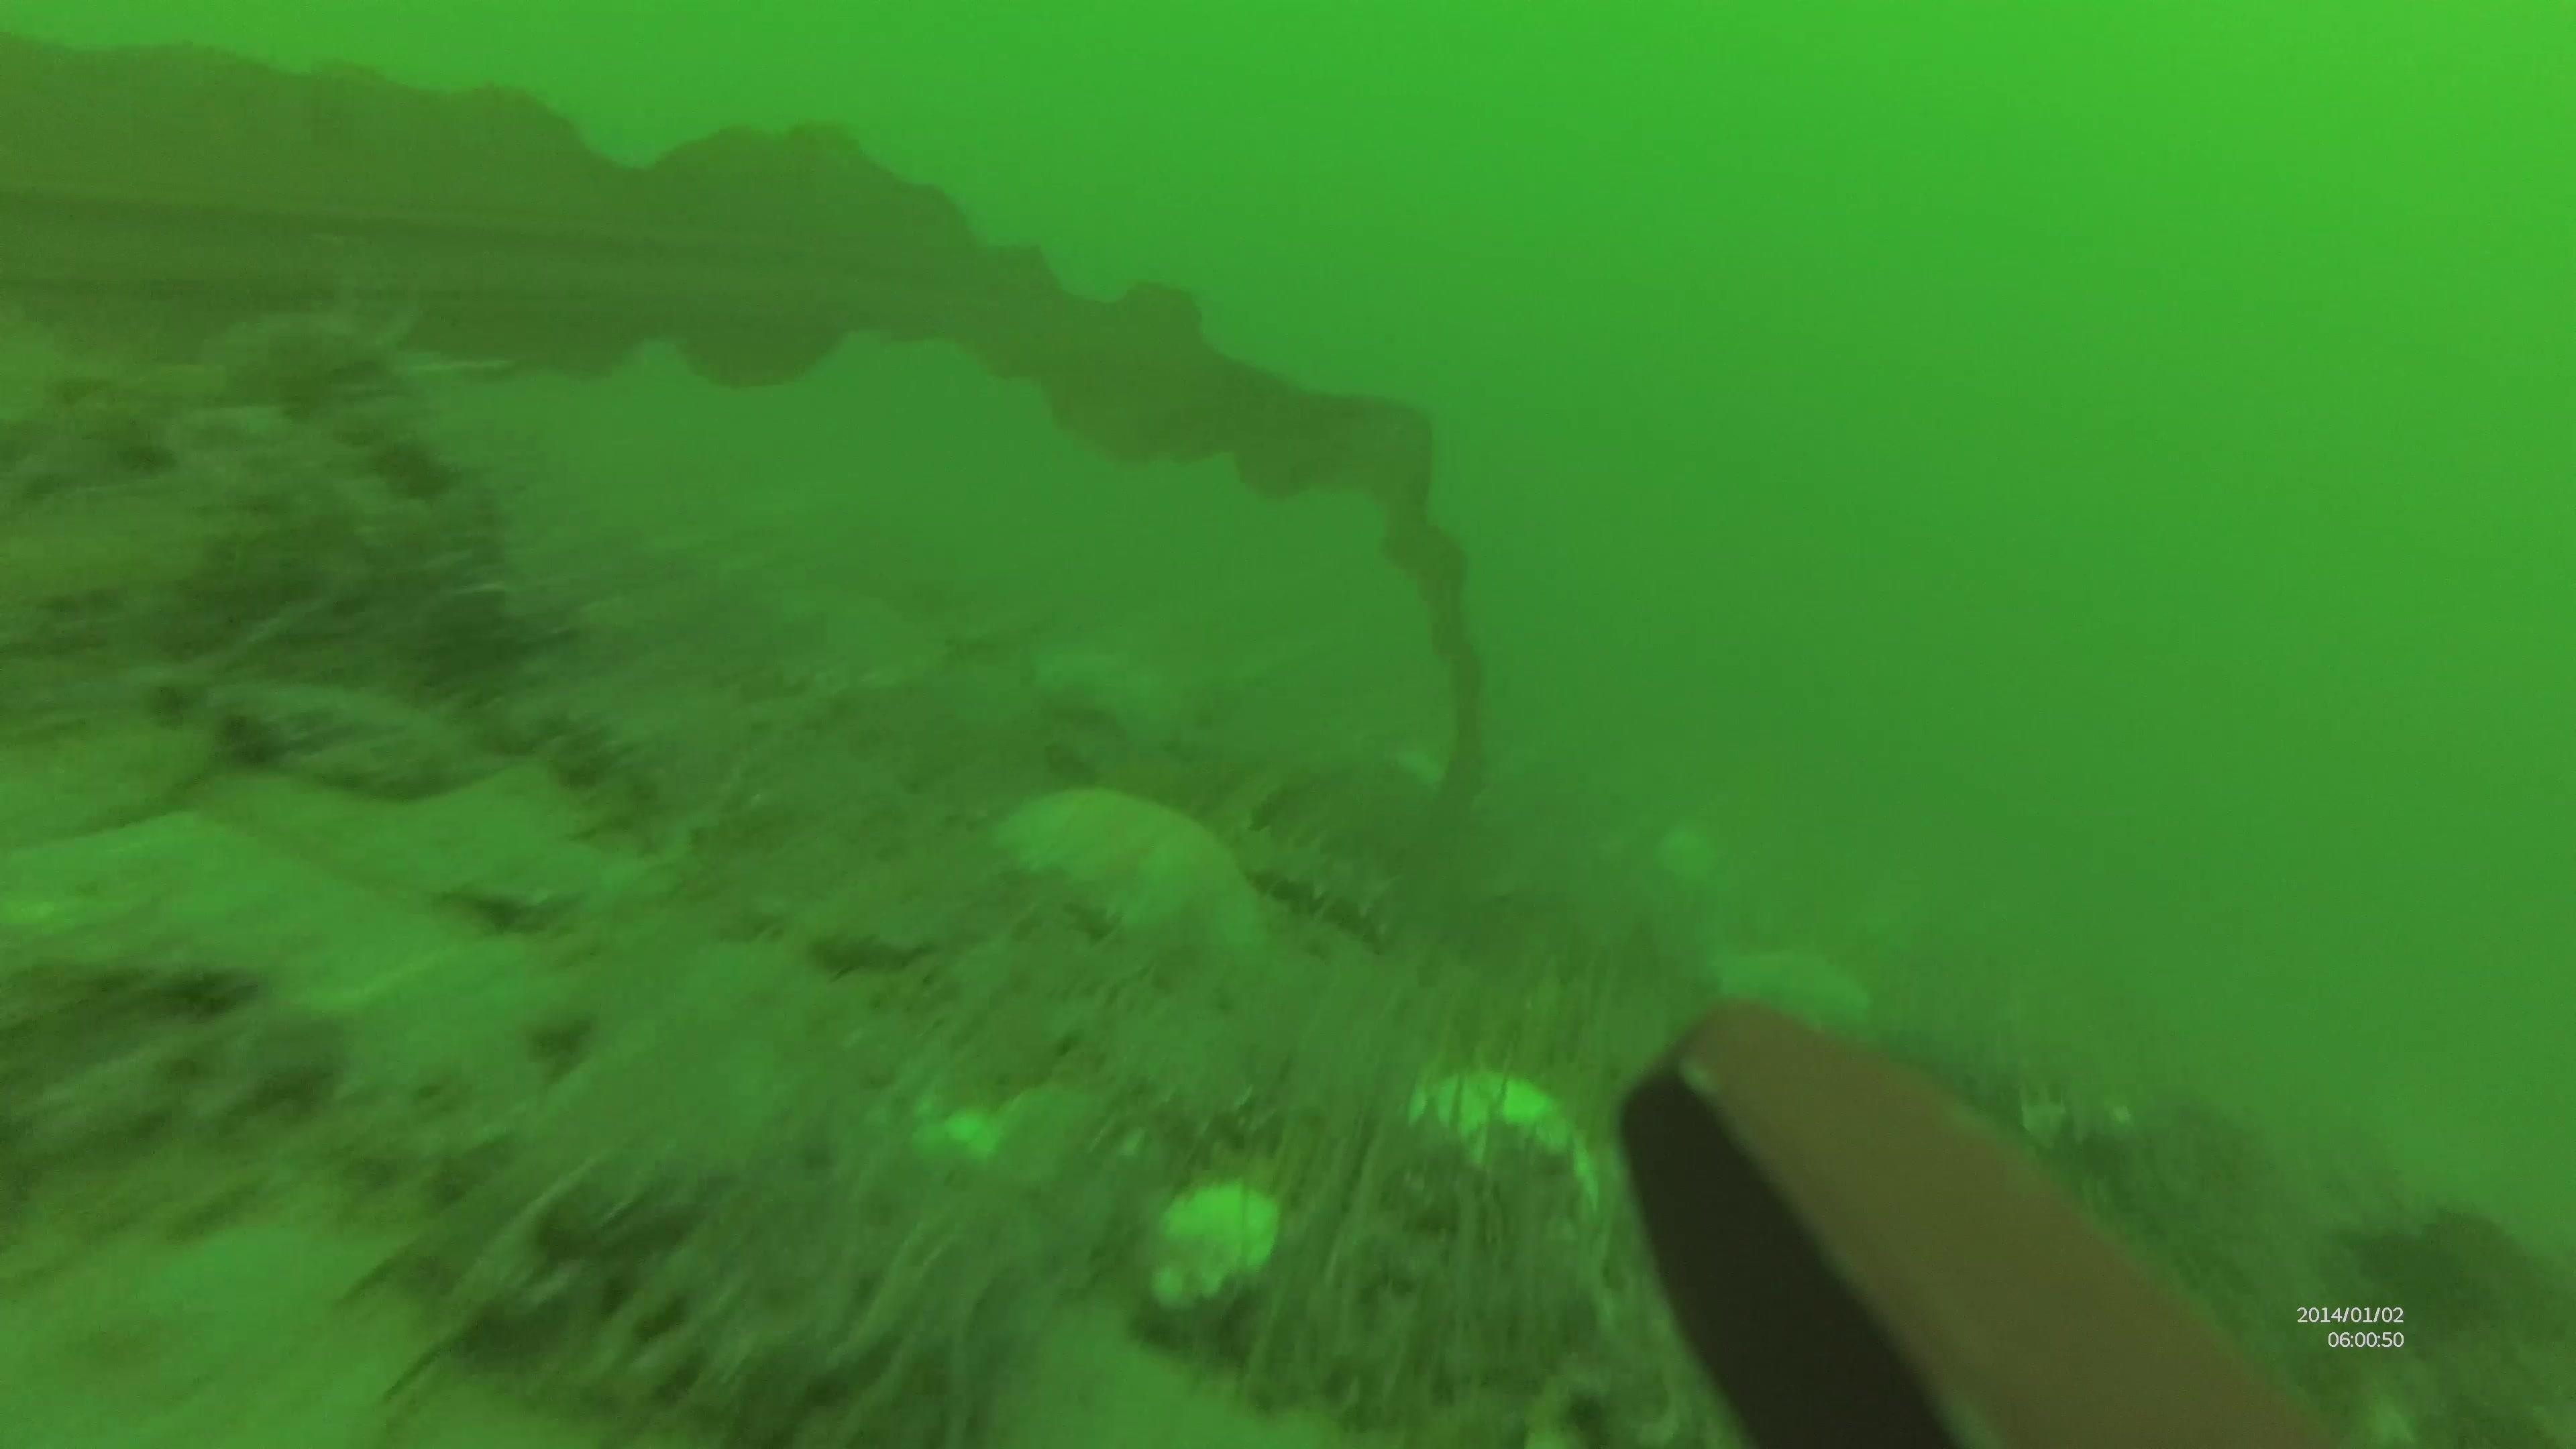holothurian: (1230, 819, 1405, 952)
scallop: (1136, 1166, 1288, 1318)
starfish: (991, 782, 1263, 966), (1704, 936, 1879, 1051)
